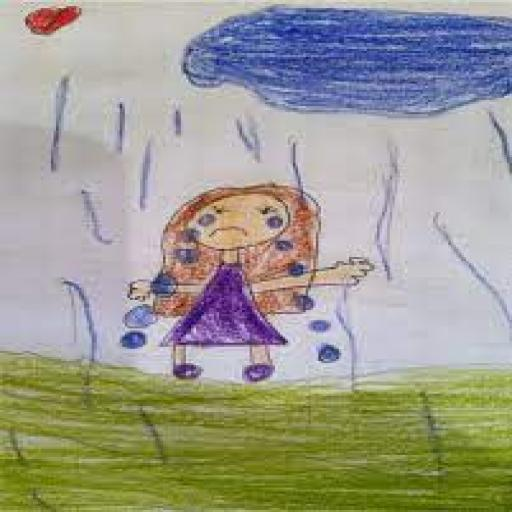person: (115, 177, 377, 392)
